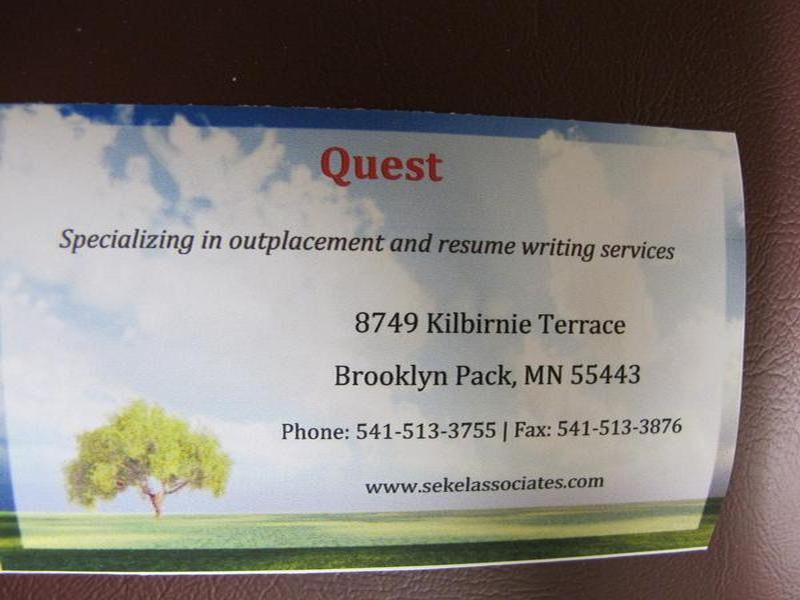card: (2, 101, 739, 575)
